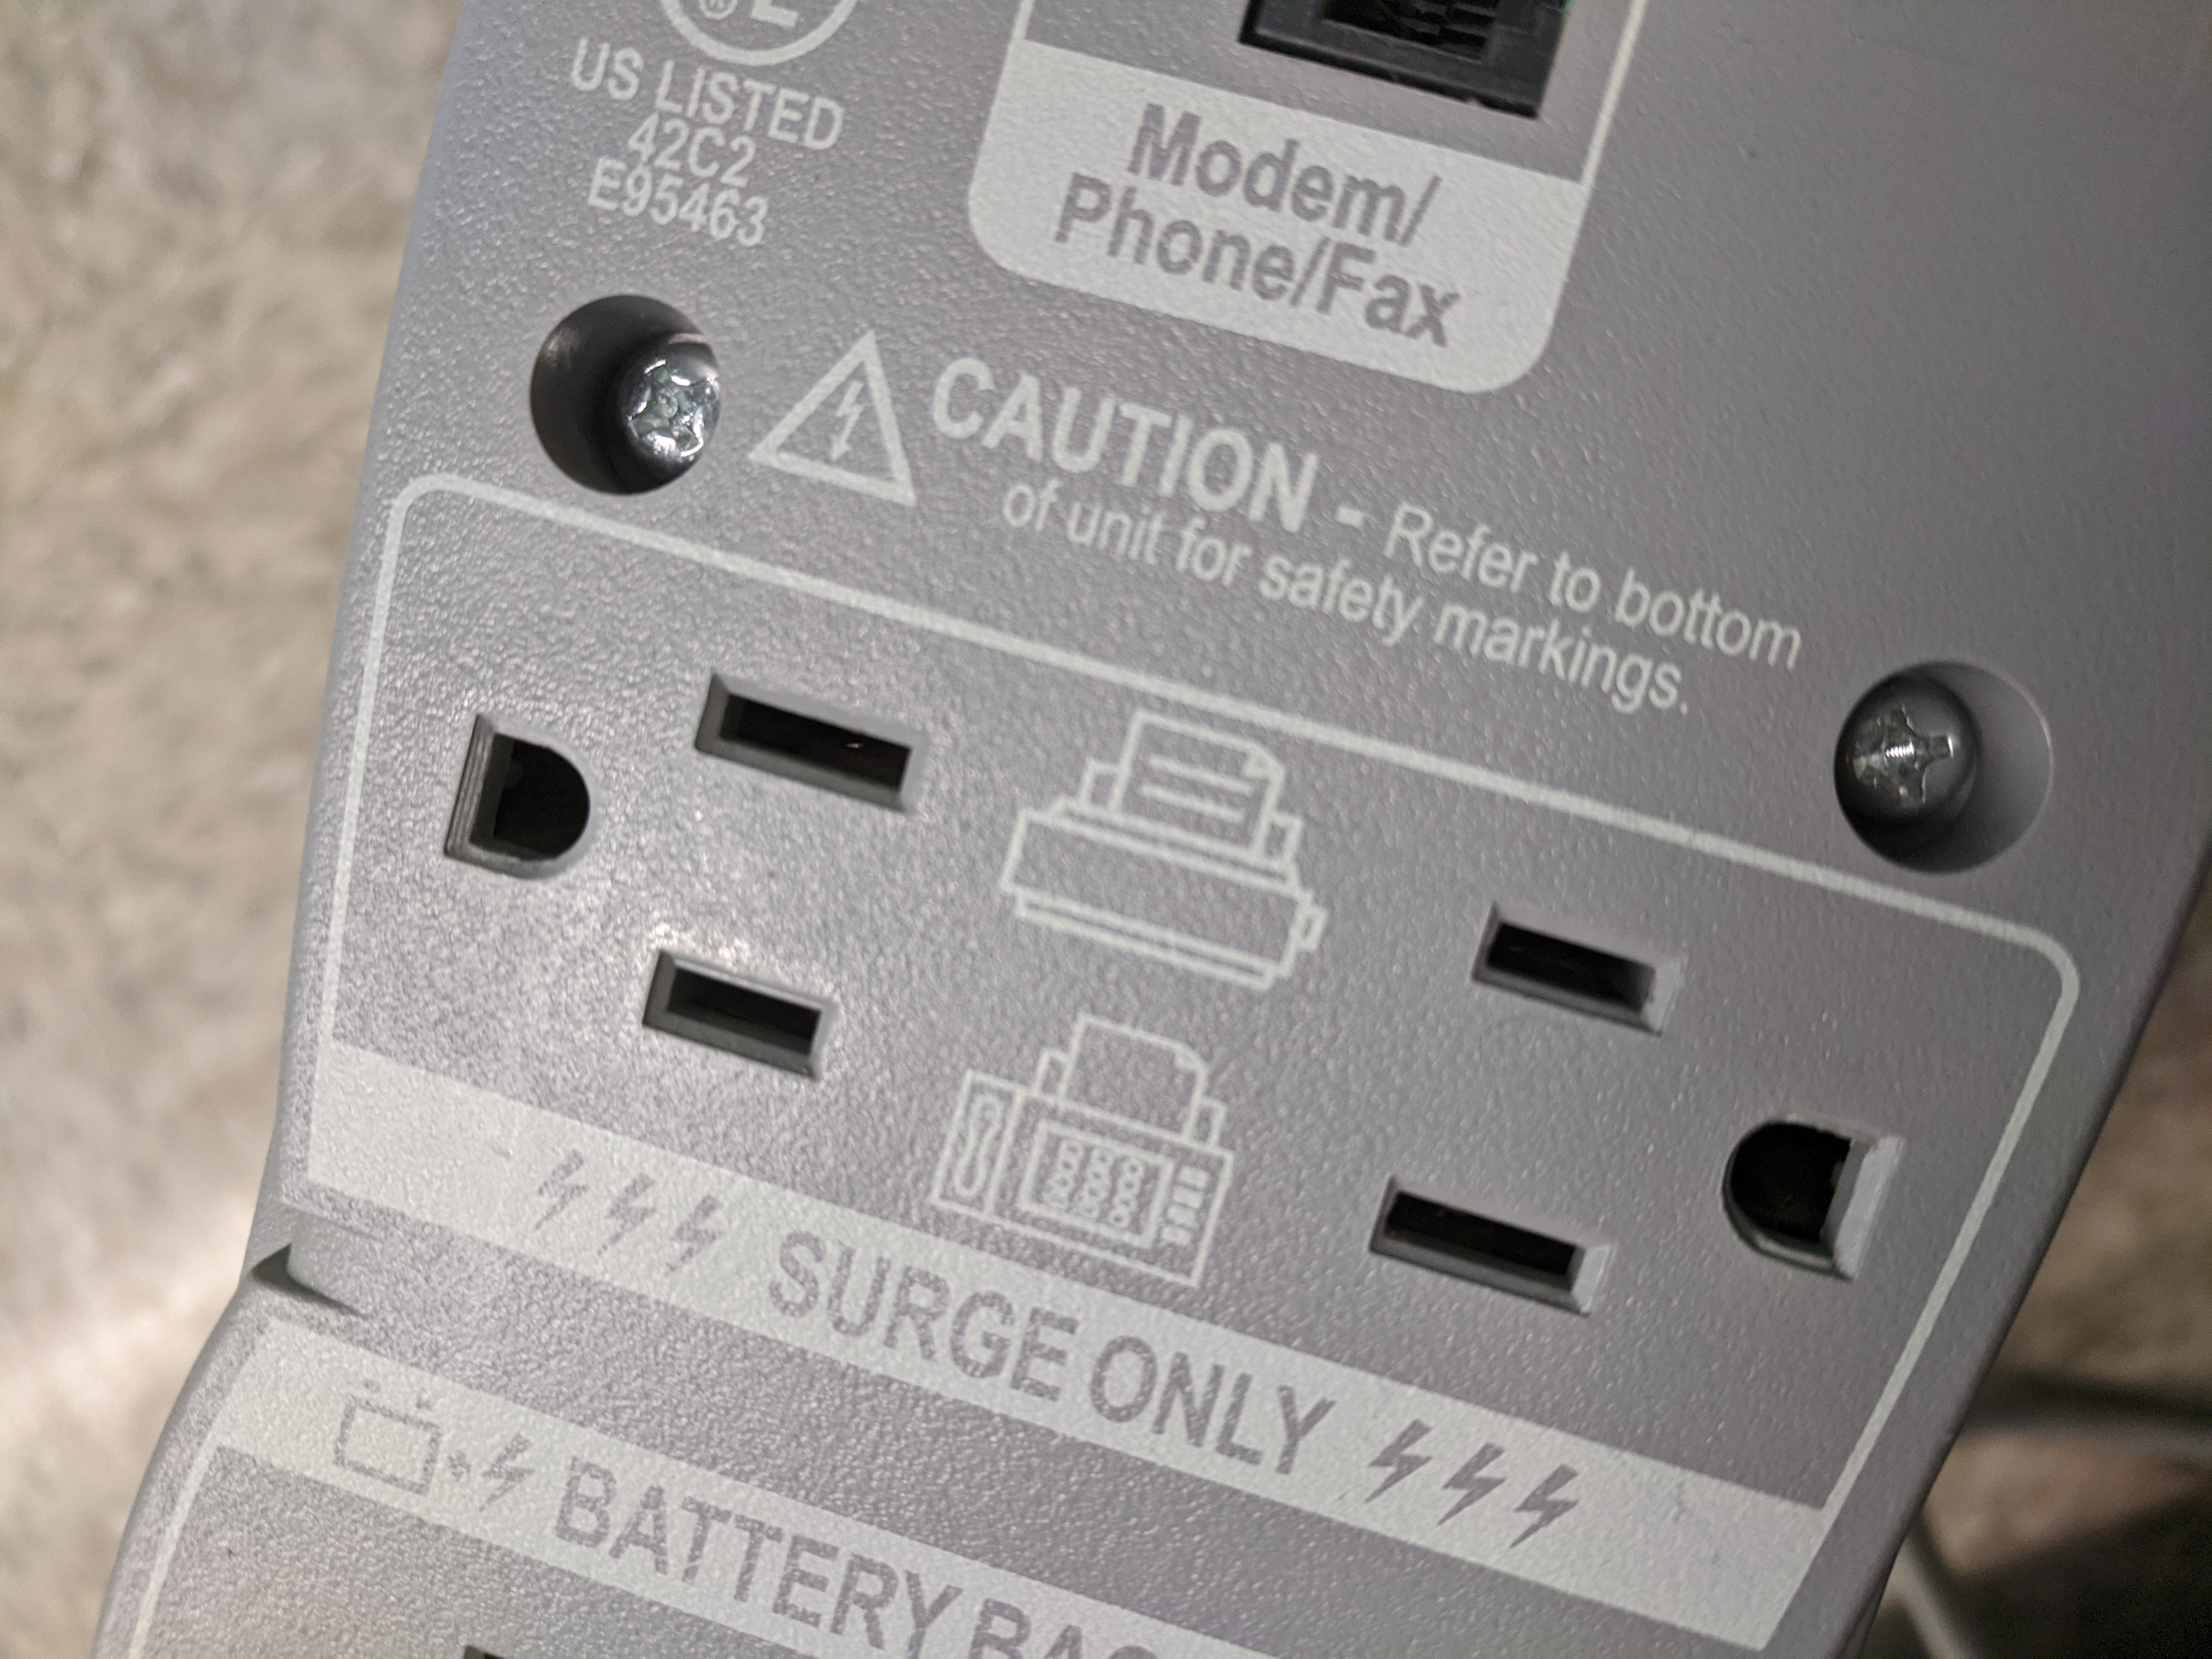cross_recessed_screw: (526, 293, 754, 498), (1825, 641, 2041, 857)
